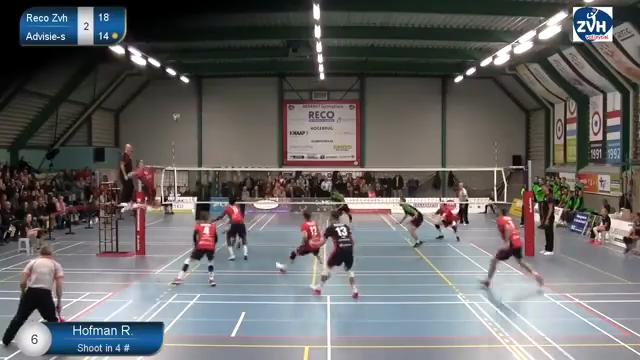attacco: (110, 152, 168, 219)
